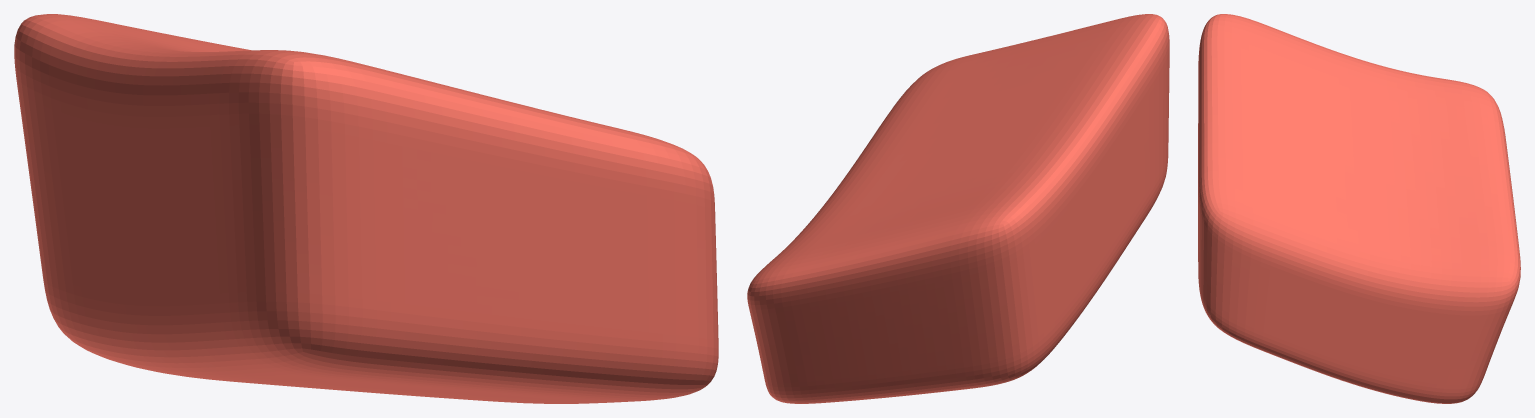
3 renders of one model, left to right at view 1: azimuth 30°, elevation 25°; view 2: azimuth 150°, elevation 25°; view 3: azimuth 270°, elevation 25°, orthographic. The views are drawn at different scales.
Visible parts, largest first — view 1: waves_1.045; view 2: waves_1.045; view 3: waves_1.045.
Boxes of the visible parts, bbox=[...] form: waves_1.045: bbox=[14, 14, 718, 403]; waves_1.045: bbox=[747, 14, 1169, 403]; waves_1.045: bbox=[1198, 14, 1520, 403].
Size of the model in its own units: 30.41 by 36.17 by 36.61.
